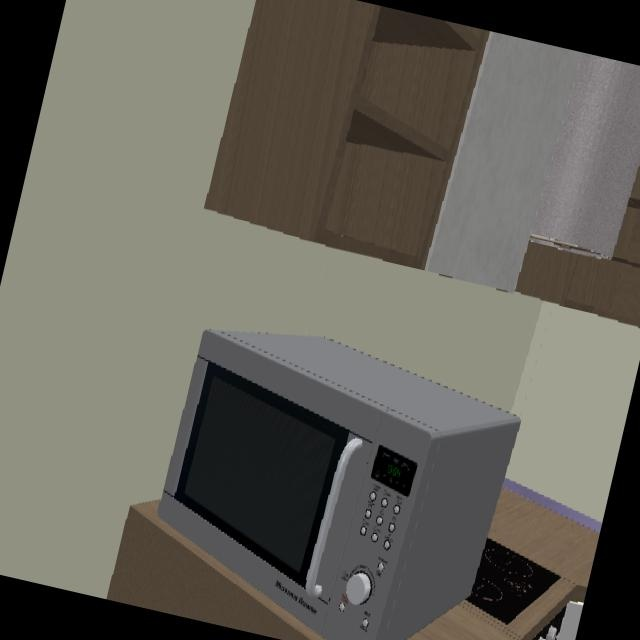countertop: (406, 479, 601, 640)
microwave: (155, 331, 519, 640)
oven: (534, 620, 562, 640)
shelf: (203, 0, 488, 270)
stove: (468, 535, 561, 624)
